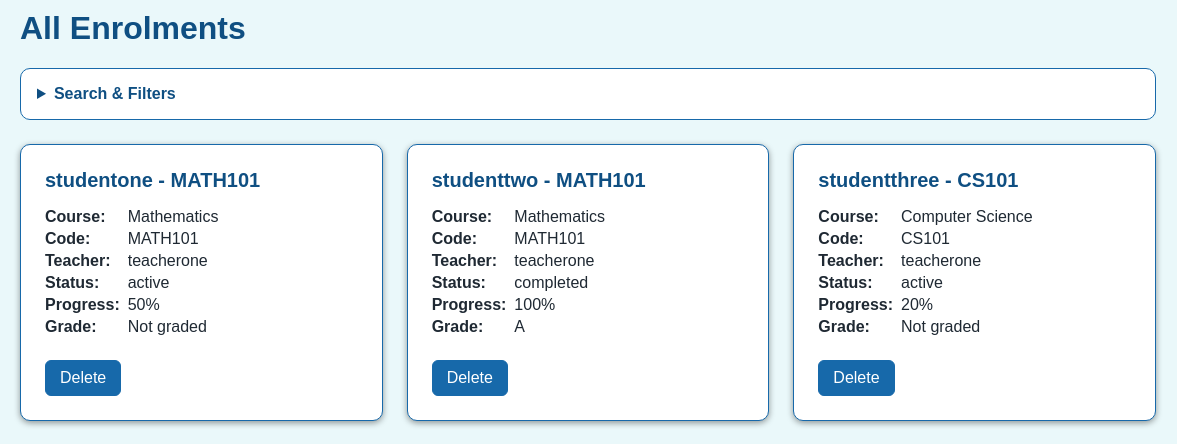
Scenario: Deletion errors › failure in deleting an enrolment displays an error message
Click the button "Delete" below "50%": (83, 378) [45,360,121,396]
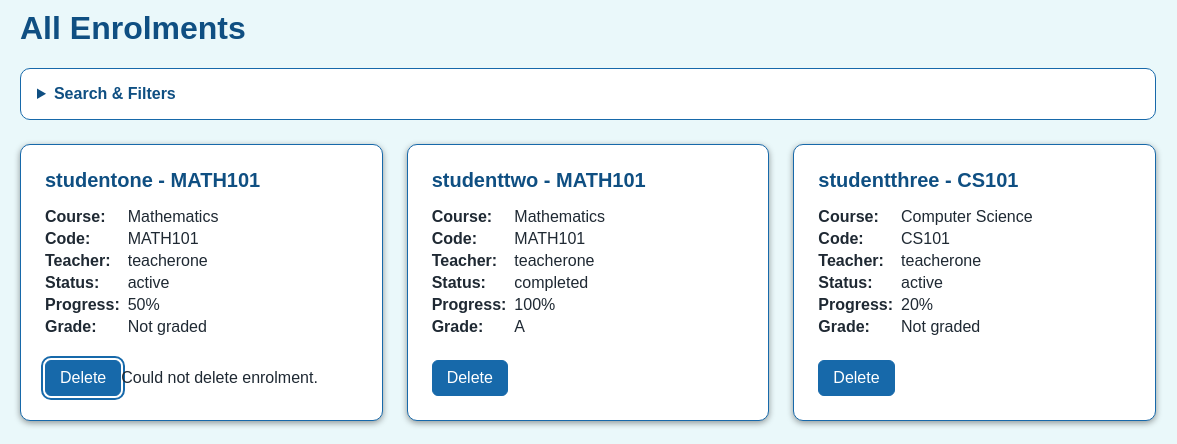
Result: the text "Could not delete enrolment." is shown at [121,369,318,386]
